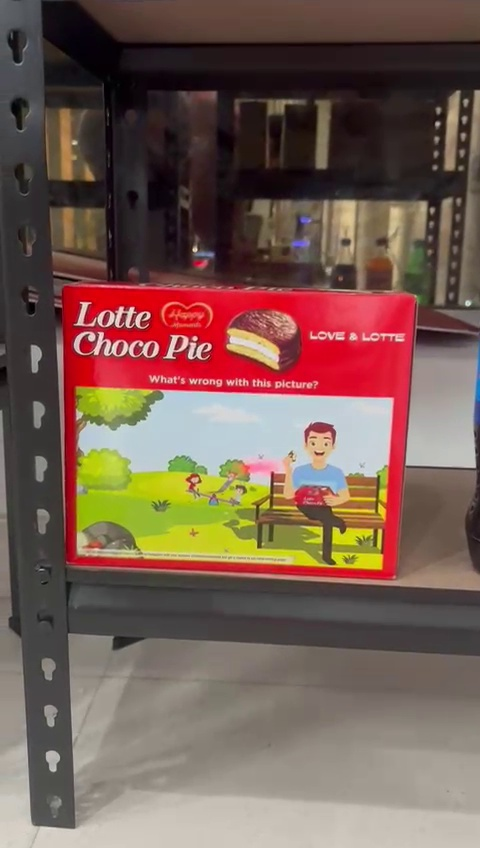Lotte Chocopie: (63, 282, 409, 578)
